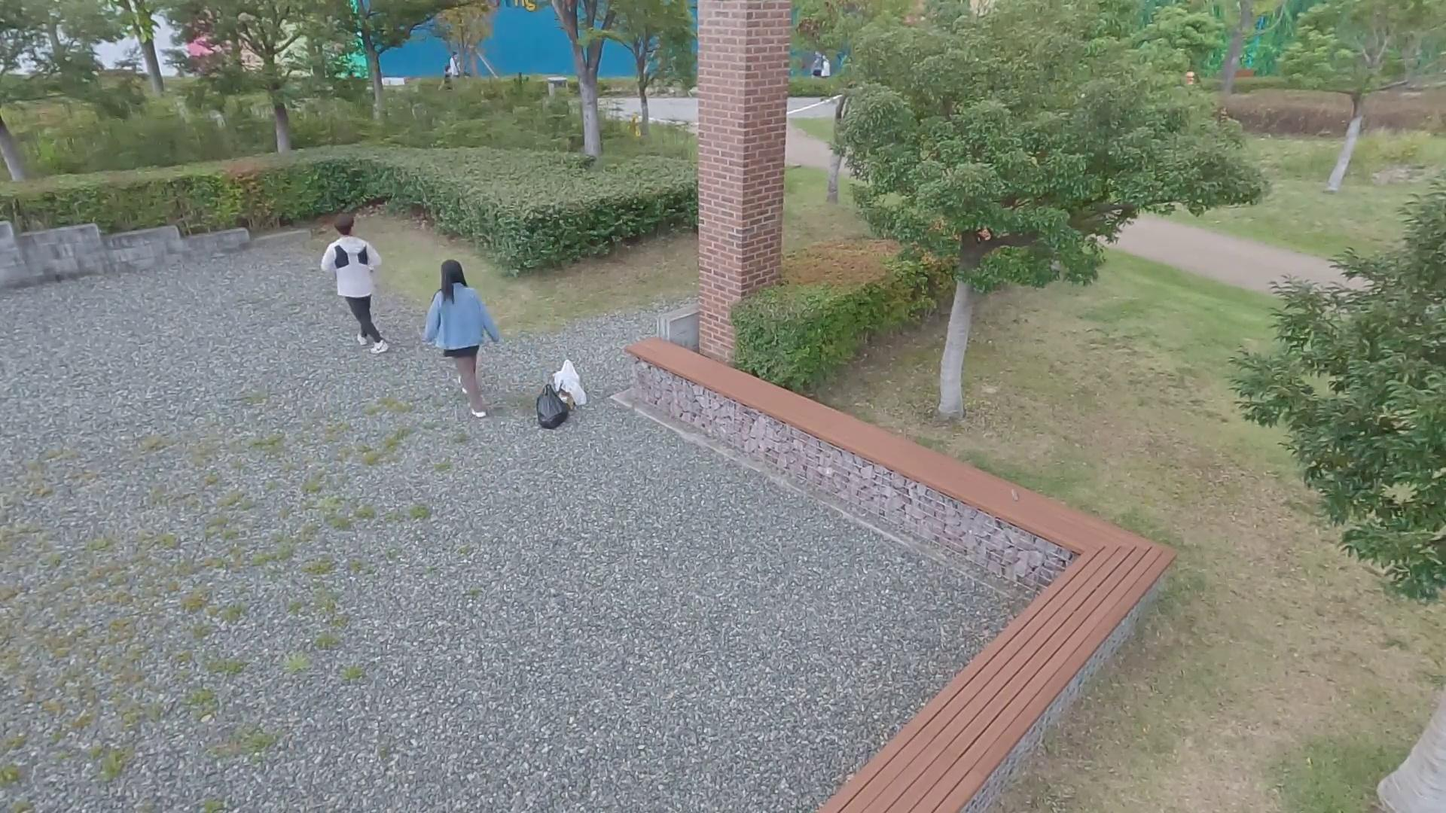person: (418, 260, 503, 419), (324, 209, 393, 357)
trash: (550, 352, 589, 406), (530, 382, 570, 428)
